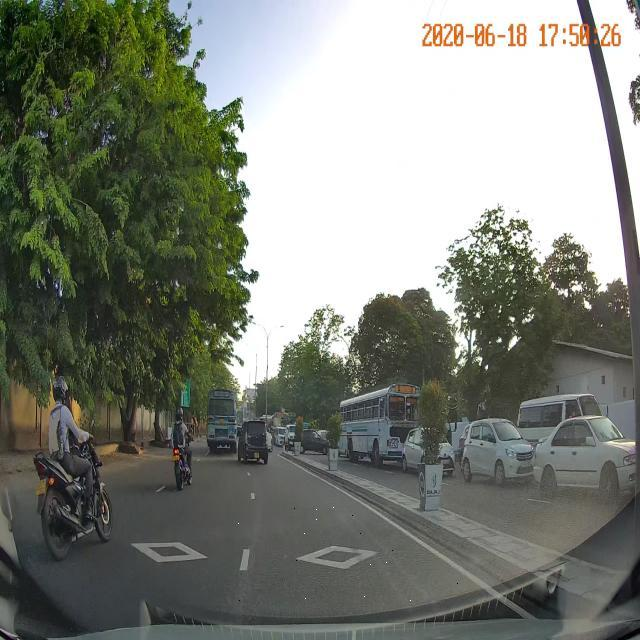diamond: (228, 505, 486, 601)
